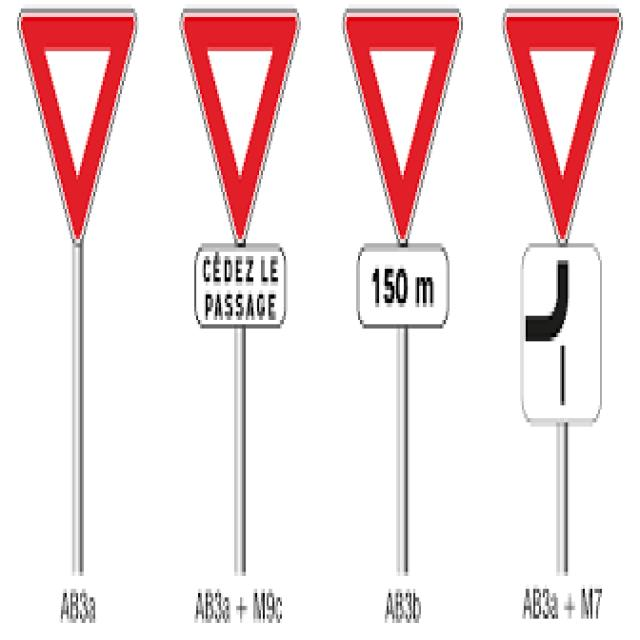Ceder-le-Passage: (343, 4, 467, 248), (180, 6, 302, 249), (17, 15, 138, 252), (503, 13, 624, 248)
